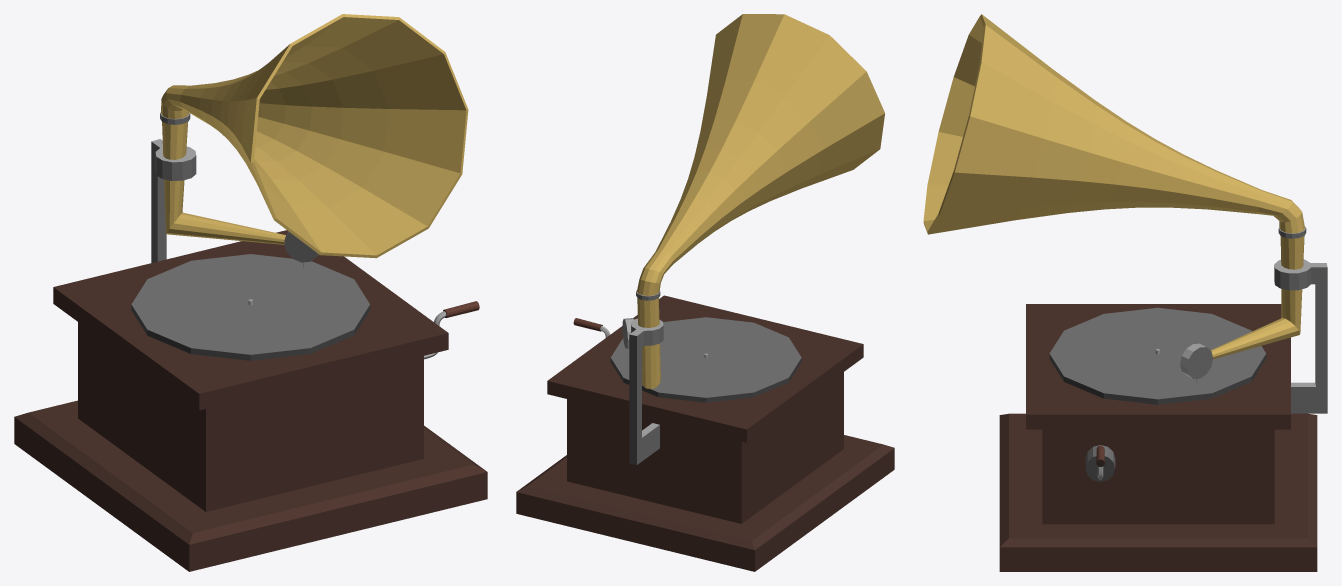
Rendered from gramophone.gltf.
3 views of the same model, side by side, from view 1: azimuth 30°, elevation 25°; view 2: azimuth 150°, elevation 25°; view 3: azimuth 270°, elevation 25° (orthographic). The views are drawn at different scales.
Visible parts, largest first — view 1: gramophone; view 2: gramophone; view 3: gramophone.
Part boxes in pixels (bbox=[...]): gramophone: bbox=[14, 14, 487, 571]; gramophone: bbox=[516, 14, 894, 571]; gramophone: bbox=[923, 14, 1327, 571].
Size of the model in its own units: 22.33 by 32.79 by 25.04.
1 material, 1 textured.
